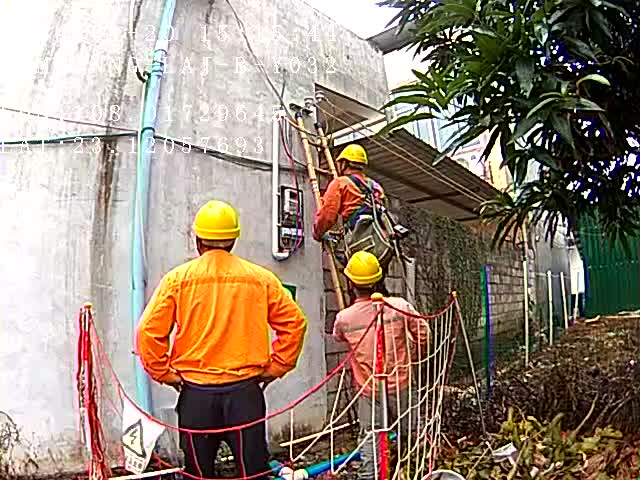halt: (194, 202, 243, 256), (345, 253, 385, 300), (338, 147, 371, 178)
